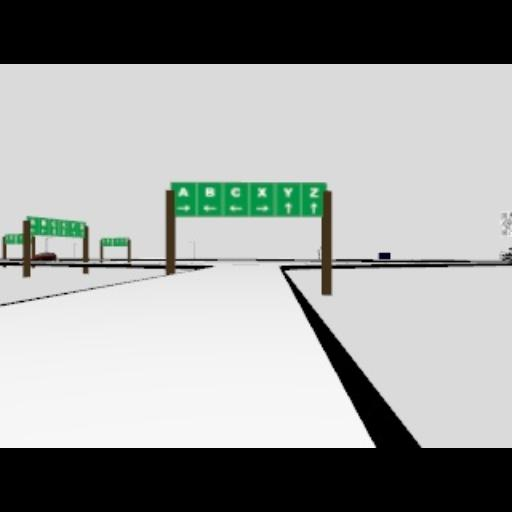A: (176, 186, 190, 198)
B: (204, 188, 214, 198)
C: (229, 186, 241, 198)
Left: (202, 205, 218, 213), (228, 203, 242, 211)
Right: (174, 204, 192, 212), (254, 204, 270, 212)
Straight: (284, 202, 294, 214), (310, 202, 318, 214)
X: (256, 186, 268, 198)
Y: (282, 186, 294, 198)
Z: (308, 186, 320, 198)
